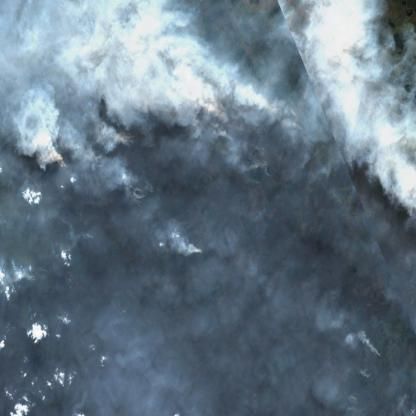fire: (163, 76, 303, 168), (19, 110, 139, 184), (169, 223, 211, 263), (359, 330, 387, 370)
